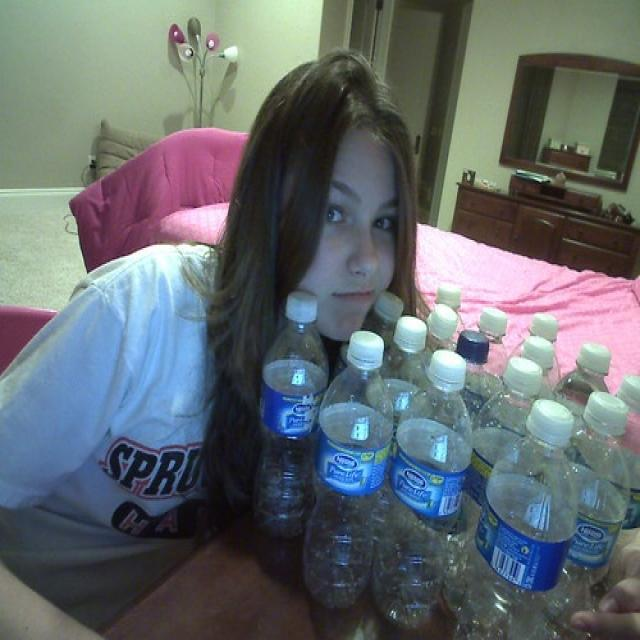plastic_bottle: (459, 399, 579, 640), (372, 350, 472, 630), (302, 331, 396, 609), (252, 290, 329, 538), (554, 392, 631, 622), (472, 356, 544, 505), (377, 316, 434, 478), (619, 375, 640, 530), (555, 341, 610, 392)
